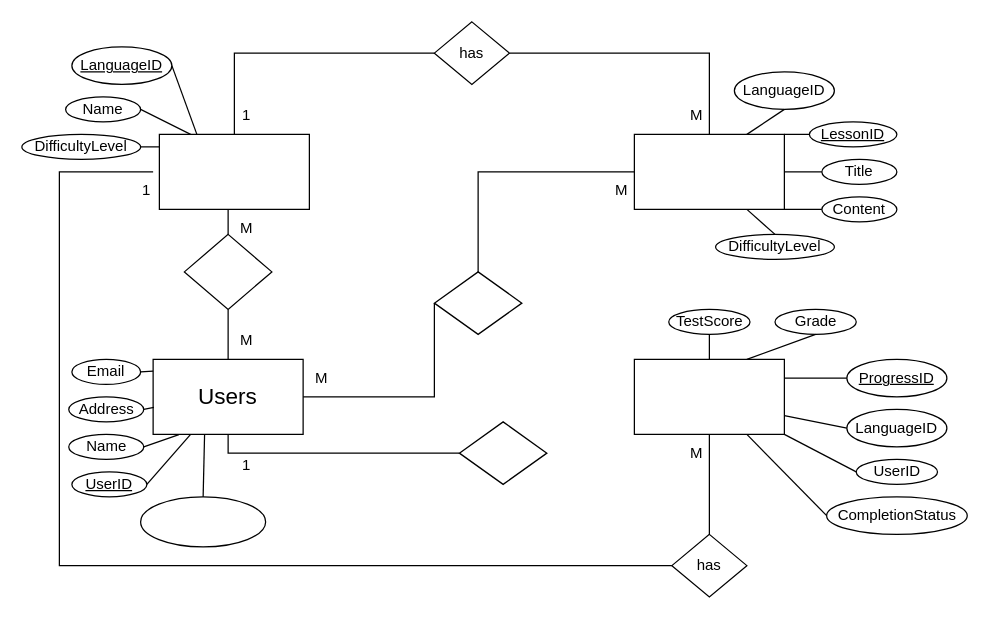
Image size: 990x619. Some labels were removed from this diagram. The box of each missing label's shape, as (x1, y1, x2, y2) in pixels:
Language: (158, 133, 309, 209)
learns: (183, 233, 272, 309)
Lessons: (633, 133, 784, 209)
Progress: (633, 358, 784, 434)
ResgistationDate: (139, 496, 266, 547)
takes: (433, 271, 522, 334)
tracks: (458, 421, 547, 484)
